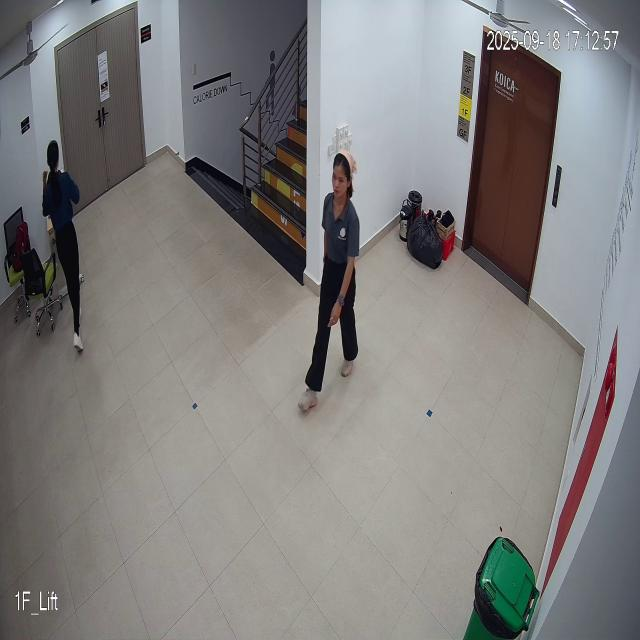face: (328, 148, 358, 202)
